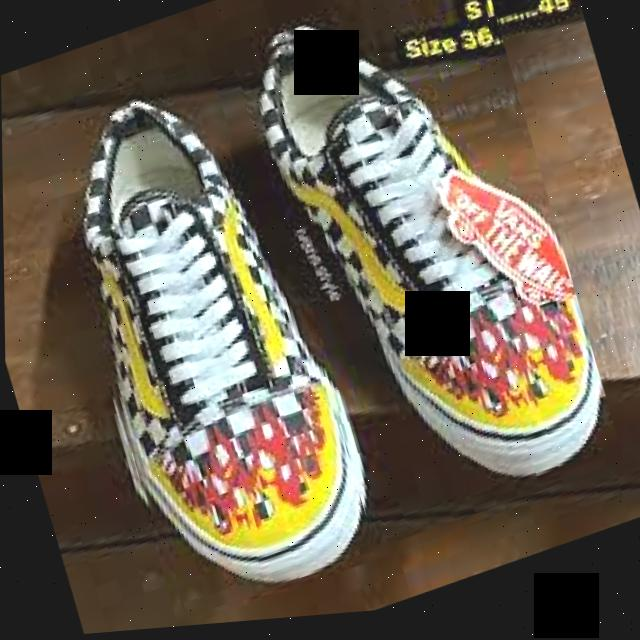shoe: (22, 0, 623, 632), (28, 46, 375, 634)
